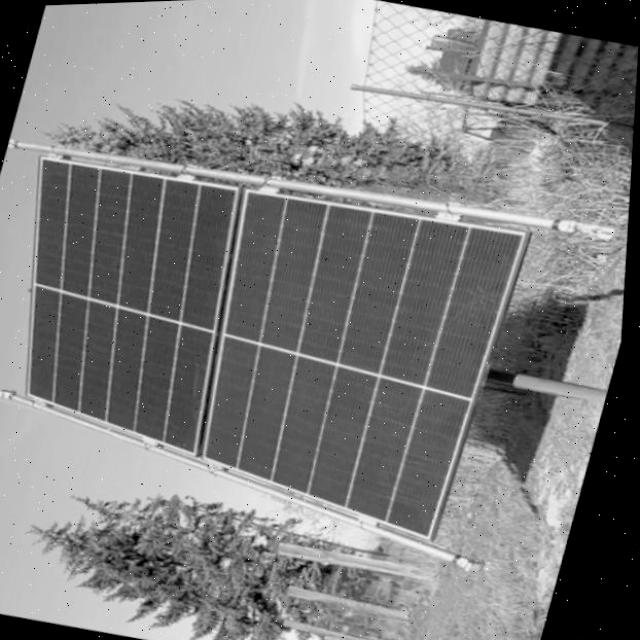Normal Solar Panel: (0, 127, 538, 558)
